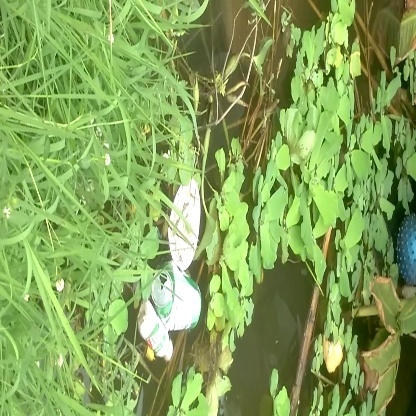bottle: (145, 260, 207, 334)
